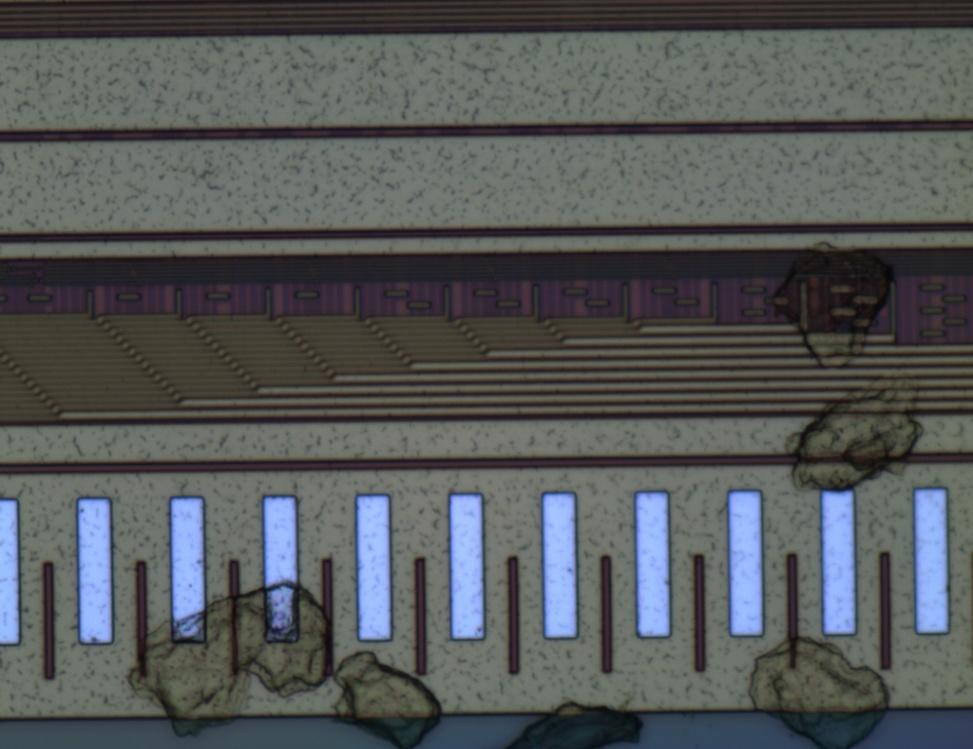PO CONTAMINATION: (106, 225, 931, 749)
